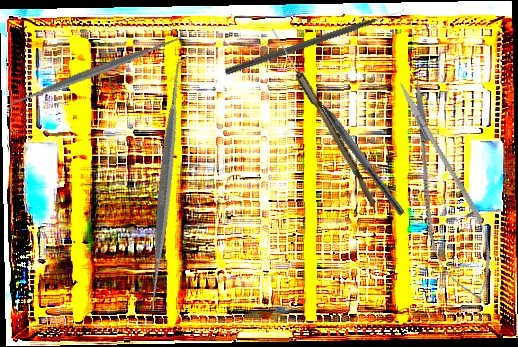Chopper: (303, 78, 415, 218)
Hook Surgical: (223, 6, 407, 77)
Micro Scissor: (379, 69, 509, 312)
Spatula Surgical: (38, 53, 294, 312), (1, 27, 188, 117)
Surgical Spoon: (266, 26, 381, 206)
